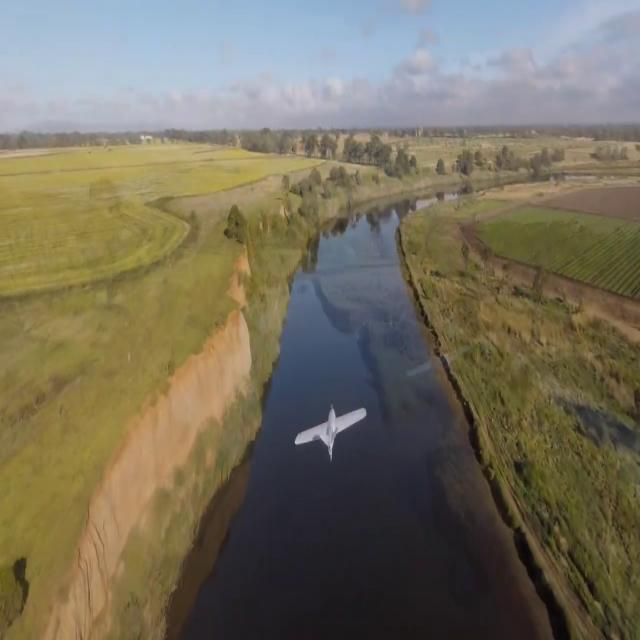iha: (321, 405, 327, 462)
